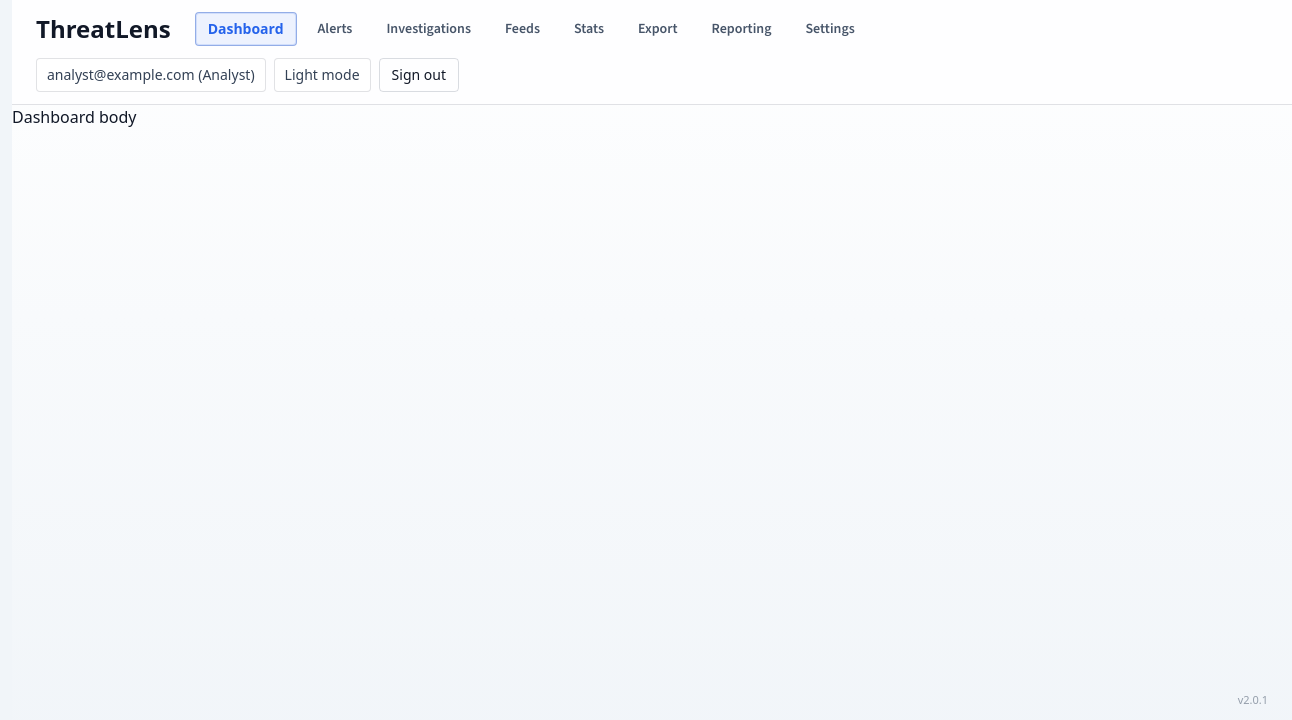
Test: AppShell › does not mark the browser logged out when the logout request fails over the network
Step 1. Click the button "Sign out" → (419, 75), box x1=379 y1=58 x2=459 y2=92
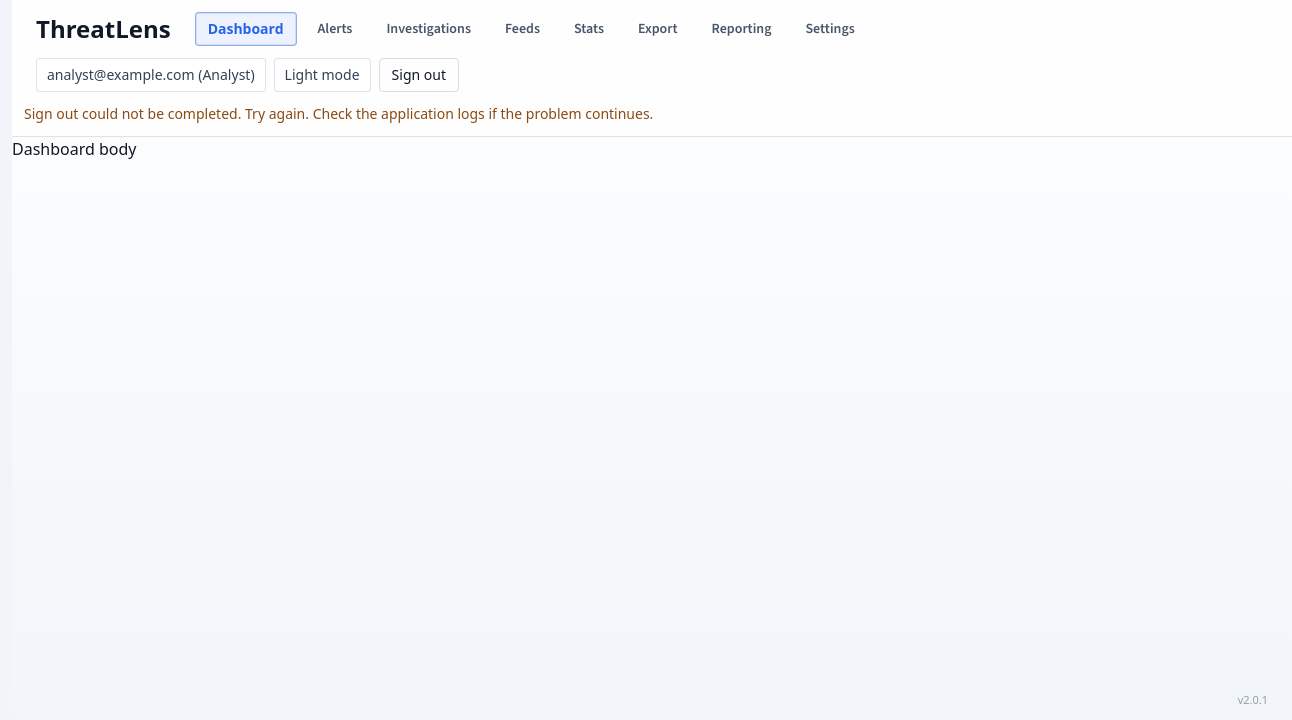
Expected: the text "Dashboard body" is shown, x1=12 y1=138 x2=136 y2=160
Now the text "Sign out could not be completed." is shown, box x1=24 y1=104 x2=653 y2=123
